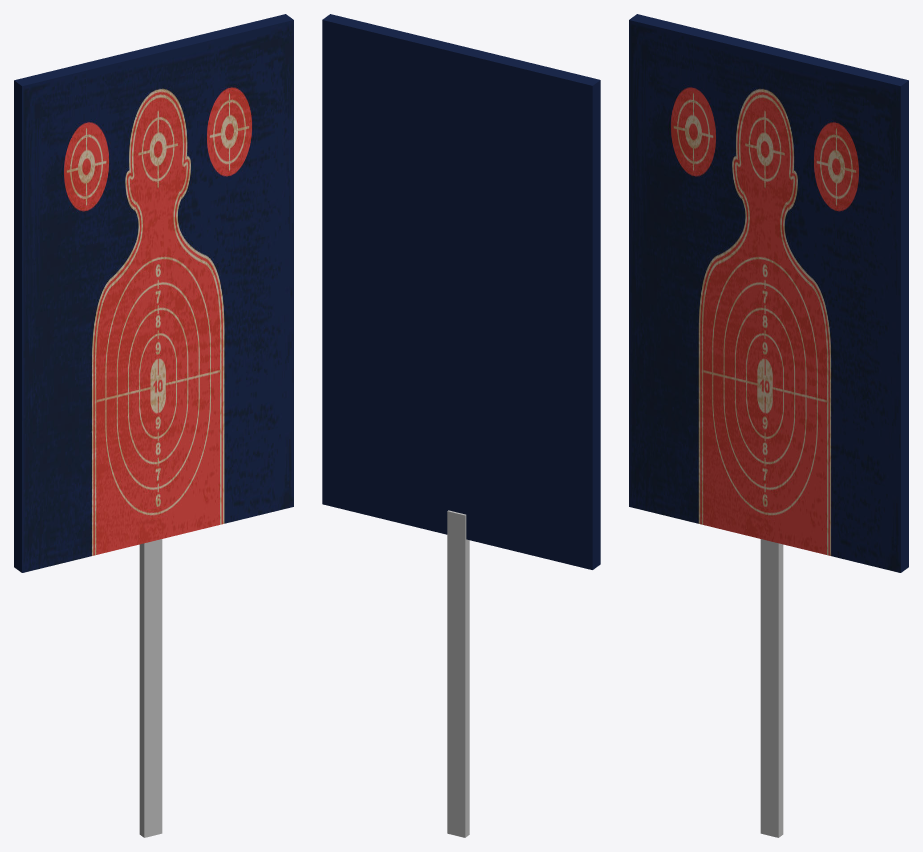
File: target.fbx
3 renders of one model, left to right at view 1: azimuth 30°, elevation 25°; view 2: azimuth 150°, elevation 25°; view 3: azimuth 330°, elevation 25°, orthographic.
Parts seen in each view (by area): view 1: polySurface6; view 2: polySurface6; view 3: polySurface6.
Boxes of the visible parts, x1=… form: polySurface6: x1=14, y1=14, x2=293, y2=837; polySurface6: x1=322, y1=14, x2=600, y2=837; polySurface6: x1=629, y1=14, x2=908, y2=837.
Bounding box in the file's own units: 12.95 × 35.79 × 0.7688.
